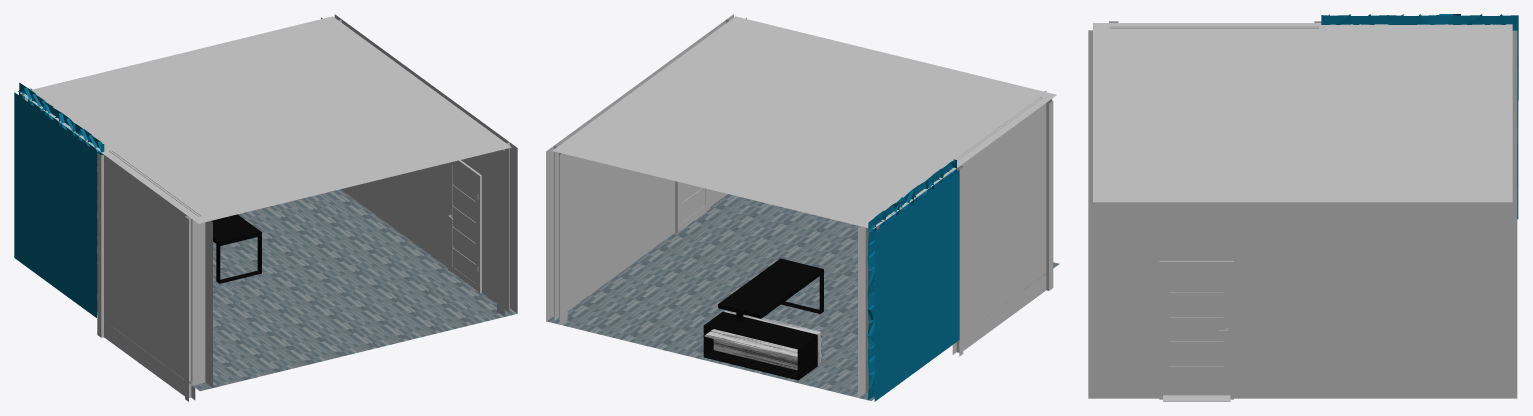
The model's file is Manager_room_v01.fbx.
3 renders of one model, left to right at view 1: azimuth 30°, elevation 25°; view 2: azimuth 150°, elevation 25°; view 3: azimuth 270°, elevation 25°, orthographic. The views are drawn at different scales.
Parts seen in each view (by area): view 1: Manager_Ceiling, Manager_floor, Window_3m_B, Manager_Wall, Manager_wall, Pillers1, Door, TableA, Pillers3, DoorFrame; view 2: Manager_Ceiling, Manager_floor, Window_3m_B, Manager_Wall, Manager_wall, TableA, Pillers, Pillers2, Door; view 3: Manager_Ceiling, Manager_wall, Door, Manager_Wall, DoorFrame, Pillers, Pillers1, BlindsBig.
Boxes of the visible parts, <box> form: Manager_Ceiling: <box>20,16,511,223</box>; Manager_floor: <box>97,189,517,391</box>; Window_3m_B: <box>97,153,195,401</box>; Manager_Wall: <box>14,82,104,317</box>; Manager_wall: <box>334,14,517,313</box>; Pillers1: <box>192,220,212,387</box>; Door: <box>449,161,478,291</box>; TableA: <box>211,214,261,283</box>; Pillers3: <box>497,142,509,316</box>; DoorFrame: <box>448,160,481,293</box>; Manager_Ceiling: <box>552,16,1056,229</box>; Manager_floor: <box>547,194,1059,400</box>; Window_3m_B: <box>952,101,1053,356</box>; Manager_Wall: <box>867,159,959,401</box>; Manager_wall: <box>546,14,733,321</box>; TableA: <box>703,258,823,380</box>; Pillers: <box>858,225,879,397</box>; Pillers2: <box>554,146,567,324</box>; Door: <box>679,182,708,230</box>; Manager_Ceiling: <box>1093,23,1512,202</box>; Manager_wall: <box>1088,202,1517,398</box>; Door: <box>1163,265,1230,395</box>; Manager_Wall: <box>1321,14,1518,219</box>; DoorFrame: <box>1159,261,1233,401</box>; Pillers: <box>1512,30,1517,196</box>; Pillers1: <box>1088,30,1092,196</box>; BlindsBig: <box>1109,26,1318,28</box>.
Bounding box in the file's own units: 617 × 344 × 602.
